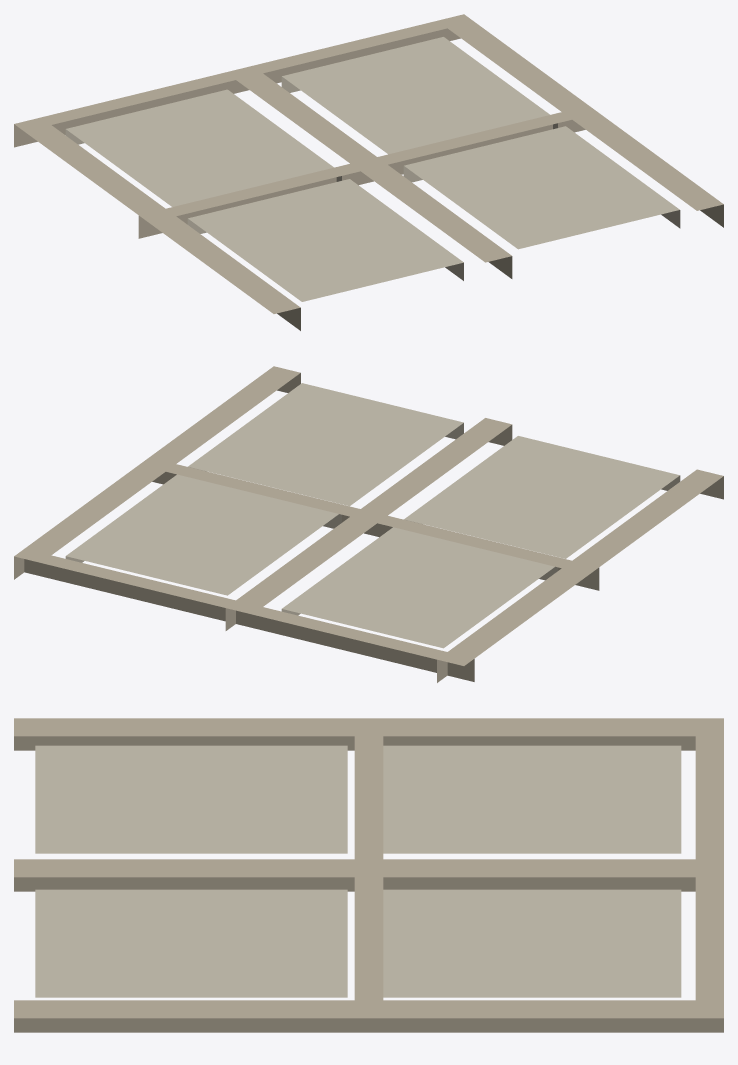
Rendered from fzk-haus-door-2.glb.
3 views of the same model, one above another, from view 1: azimuth 30°, elevation 25°; view 2: azimuth 150°, elevation 25°; view 3: azimuth 270°, elevation 25° (orthographic). The views are drawn at different scales.
Visible parts, largest first — view 1: opening; view 2: opening; view 3: opening.
Boxes of the visible parts, x1=… form: opening: x1=14, y1=14, x2=723, y2=330; opening: x1=14, y1=366, x2=723, y2=682; opening: x1=14, y1=718, x2=723, y2=1032.
Bounding box in the file's own units: 1 × 0.05 × 1.
